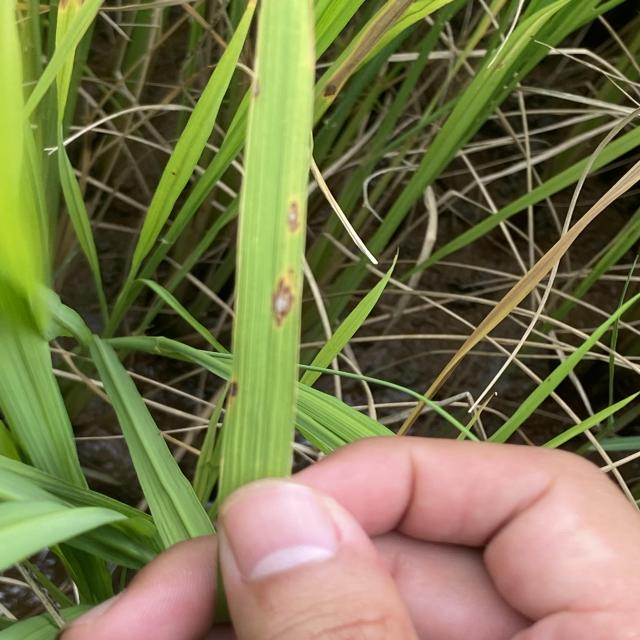Dao on: (272, 269, 296, 326), (287, 200, 300, 233)
